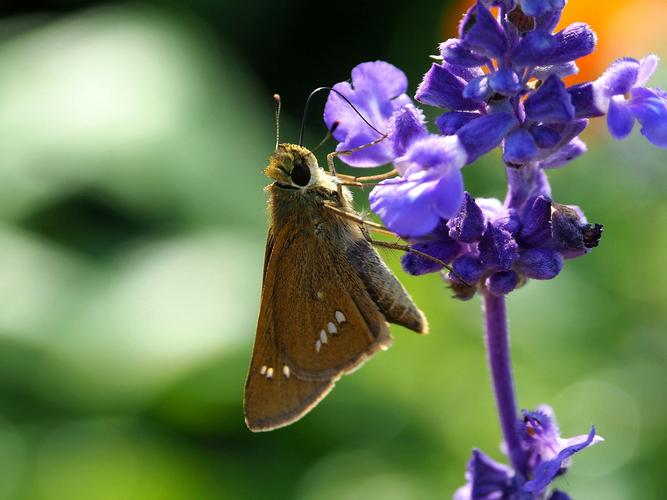Hesperiidae: (234, 78, 411, 436)
